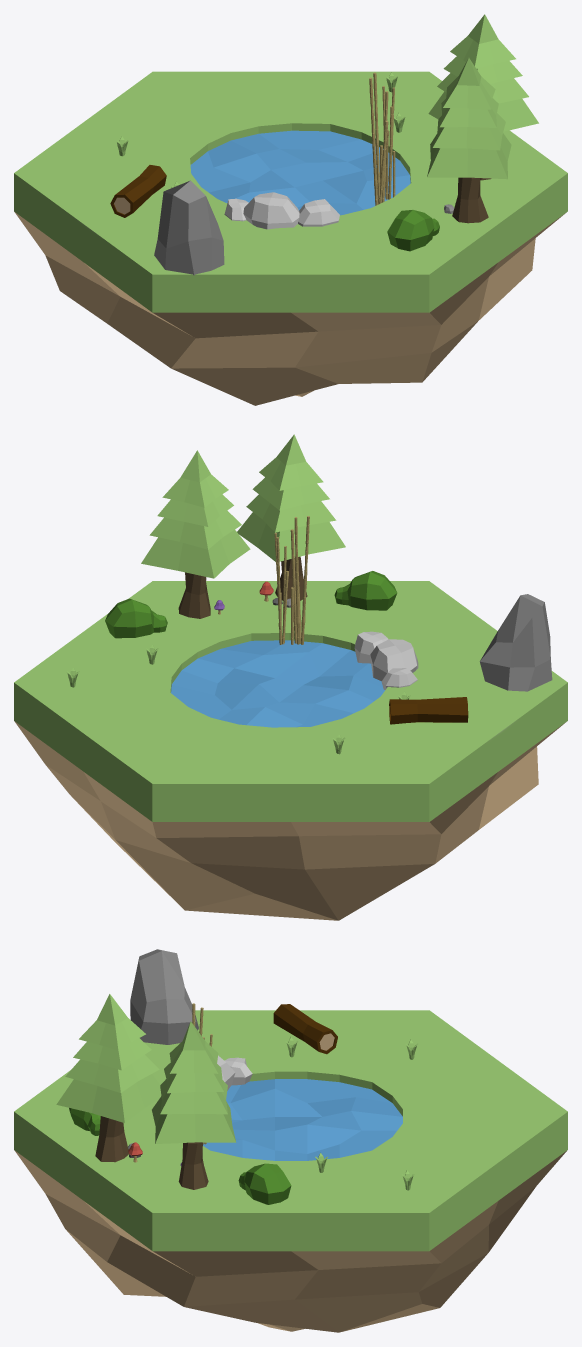
File: escenario_lago.fbx
The picture shows the model from 3 angles, top to bottom: view 1: azimuth 30°, elevation 25°; view 2: azimuth 150°, elevation 25°; view 3: azimuth 270°, elevation 25°; orthographic projection.
Visible parts, largest first — view 1: LAGO; view 2: LAGO; view 3: LAGO.
Boxes of the visible parts, bbox=[...] form: LAGO: bbox=[14, 14, 567, 405]; LAGO: bbox=[14, 434, 567, 920]; LAGO: bbox=[14, 949, 567, 1332].
Size of the model in its own units: 3221 by 2790 by 2415.
Materials: 1 (1 with a texture image).
